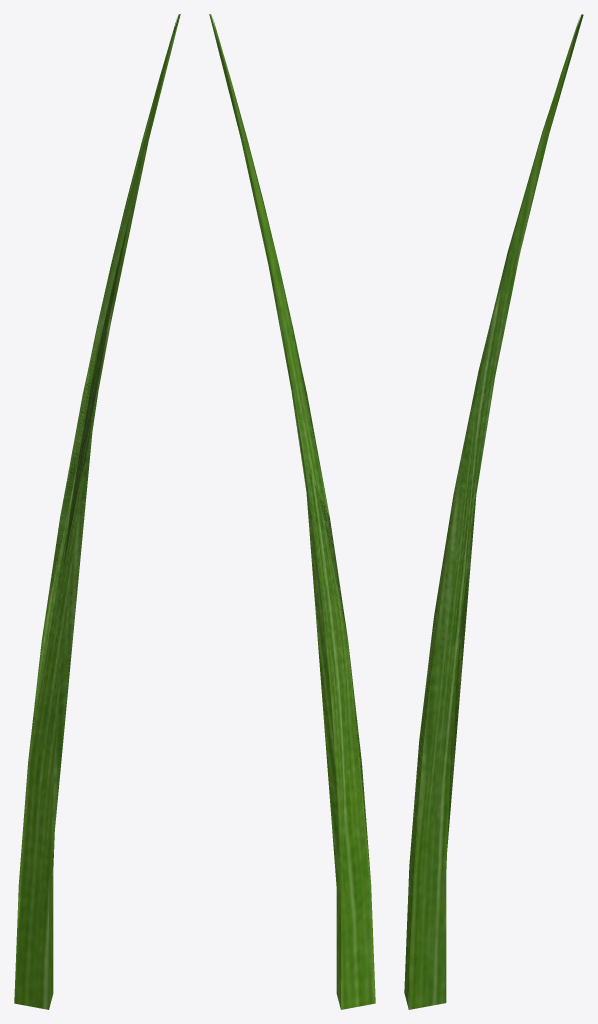
File: grassblade6.glb
3 renders of one model, left to right at view 1: azimuth 30°, elevation 25°; view 2: azimuth 150°, elevation 25°; view 3: azimuth 330°, elevation 25°, orthographic. The views are drawn at different scales.
Parts seen in each view (by area): view 1: grassblade2; view 2: grassblade2; view 3: grassblade2.
Boxes of the visible parts, x1=… form: grassblade2: x1=14, y1=14, x2=180, y2=1009; grassblade2: x1=209, y1=14, x2=375, y2=1009; grassblade2: x1=404, y1=14, x2=583, y2=1009.
Size of the model in its own units: 0.3993 by 2.18 by 0.127.
Materials: 1 (1 with a texture image).
